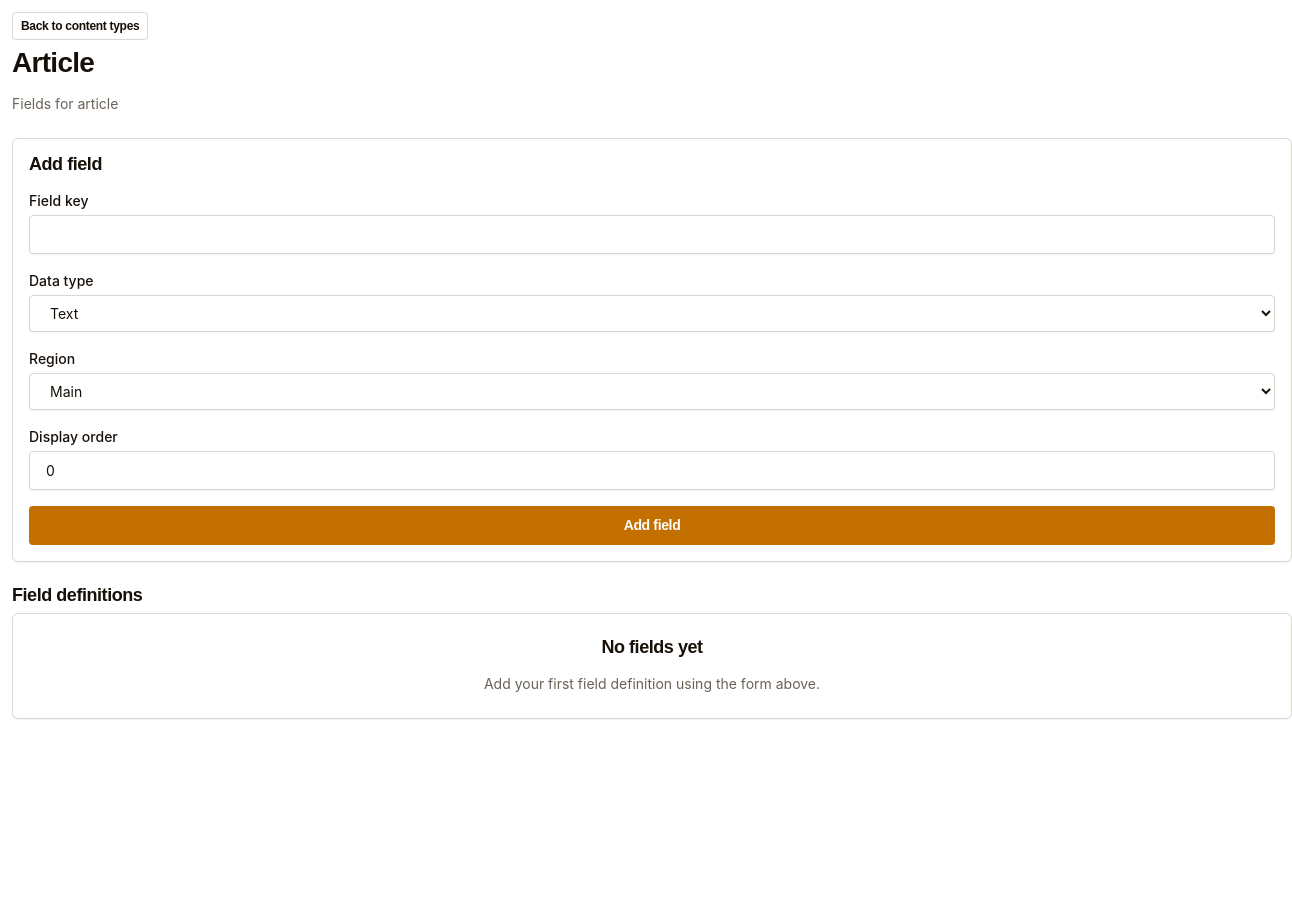
it: FieldDefsPage › configures a relation field with a target content type and cardinality
Expected: the heading "Article" is shown, [12,48,94,77]
Expected: the field labelled "Target content type" is not shown
Select "Relation" in the dropdown labelled "Data type". click: (652, 314)
box: [29,295,1275,332]
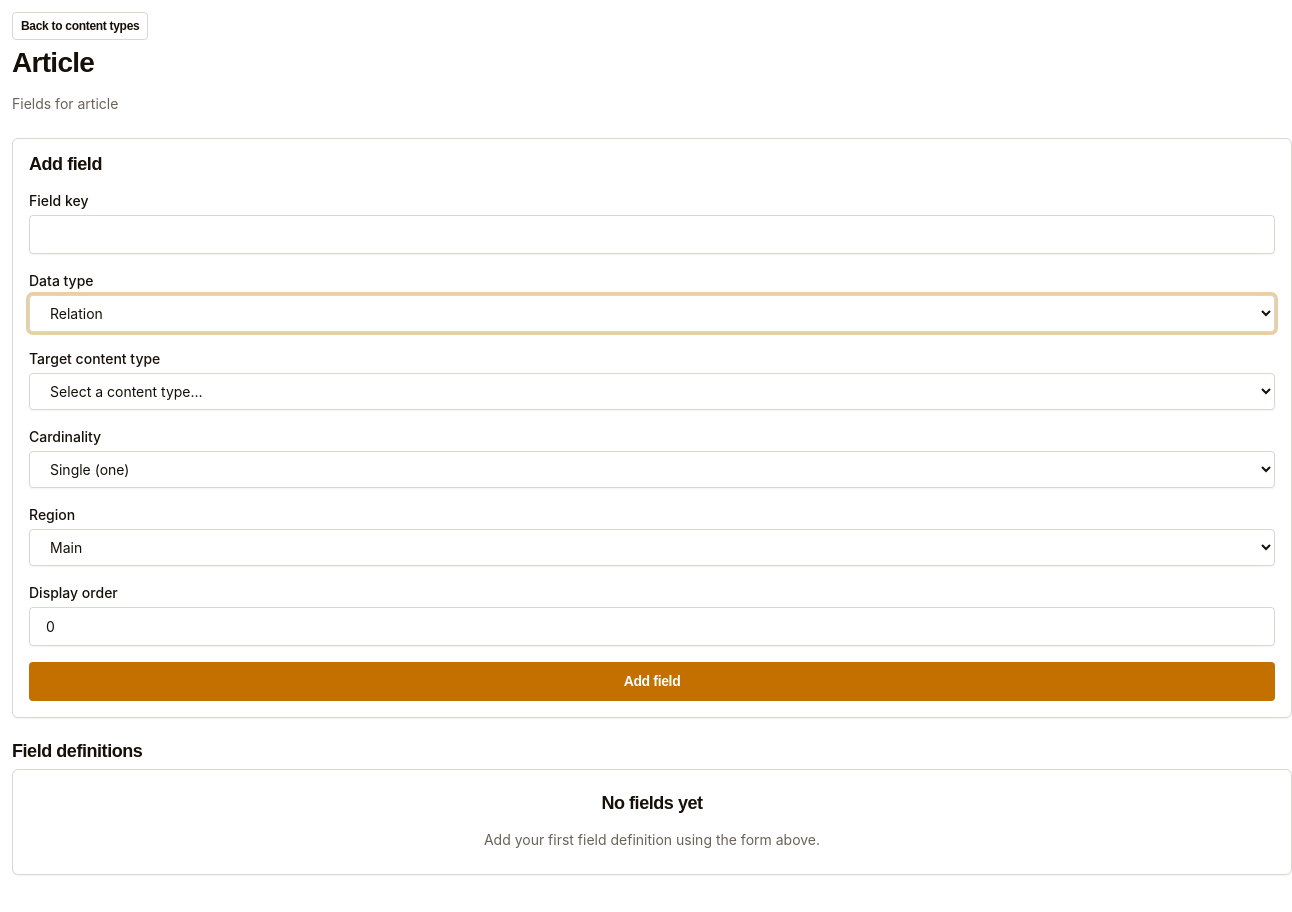
Select "Author" in the dropdown labelled "Target content type". click: (652, 392)
box: [29,373,1275,410]
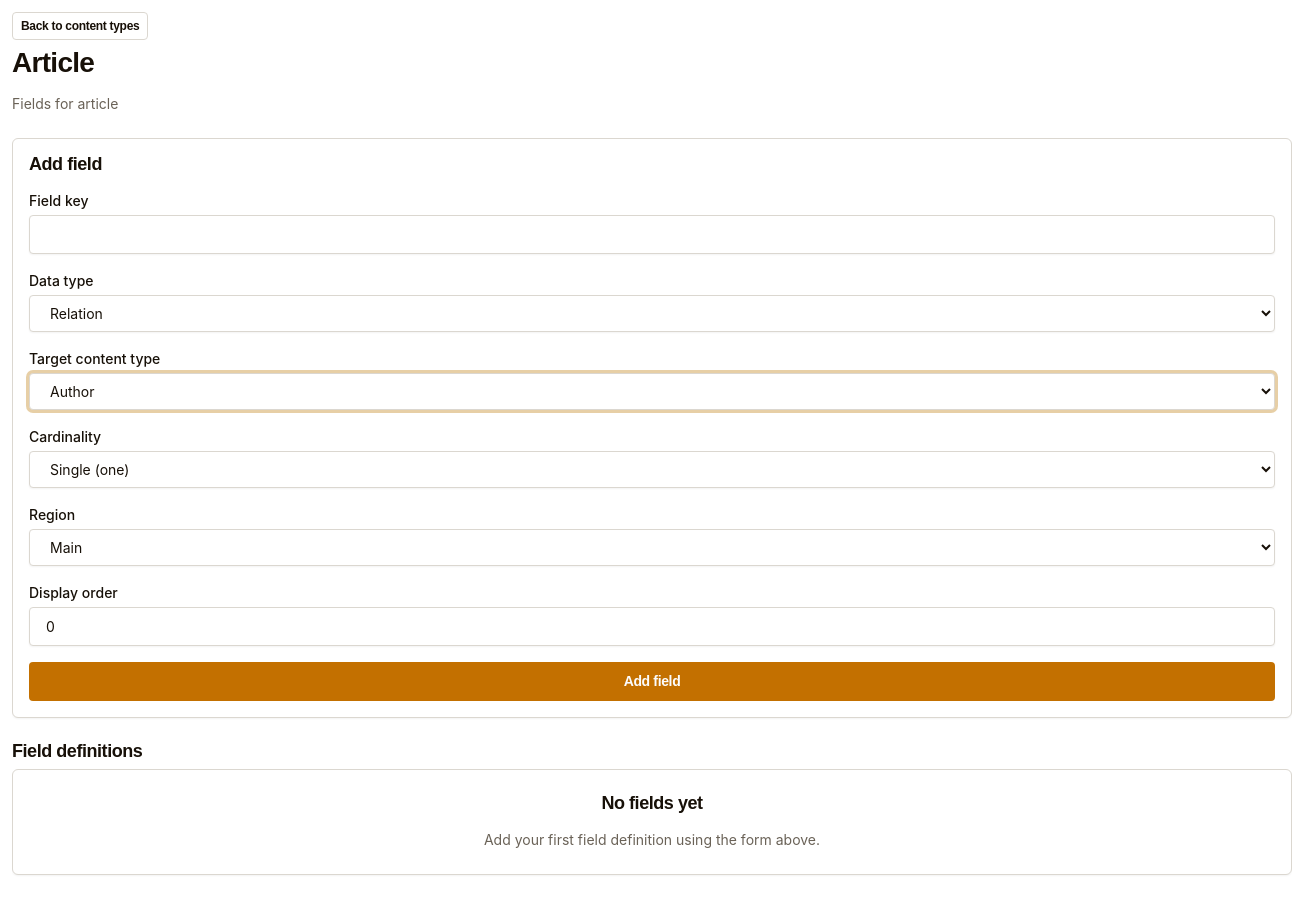
Select "Multiple (many)" in the dropdown labelled "Cardinality". click: (652, 470)
box: [29,451,1275,488]
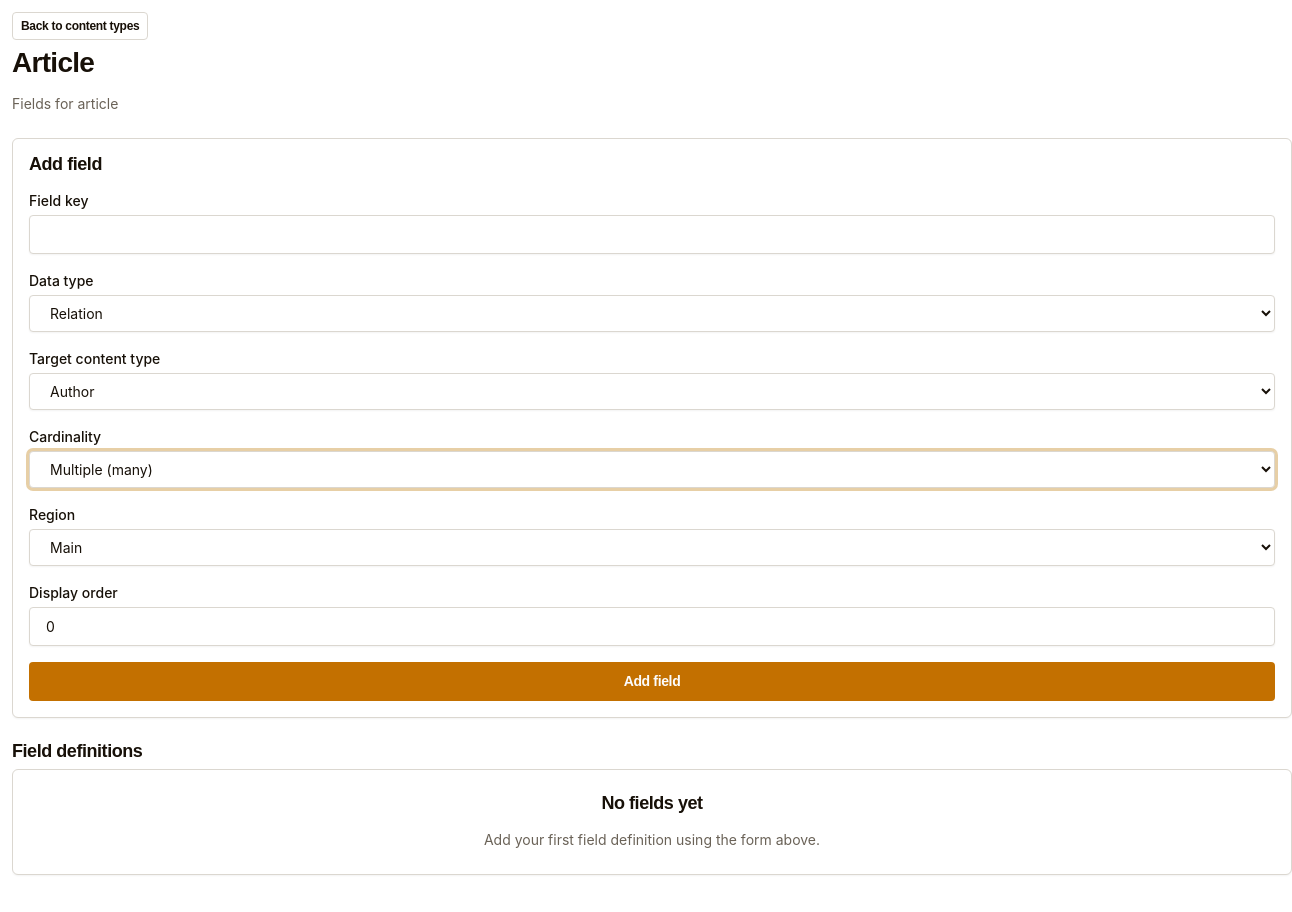
Type "author" into the field labelled "Field key". click: (652, 235)
box: [29,215,1275,254]
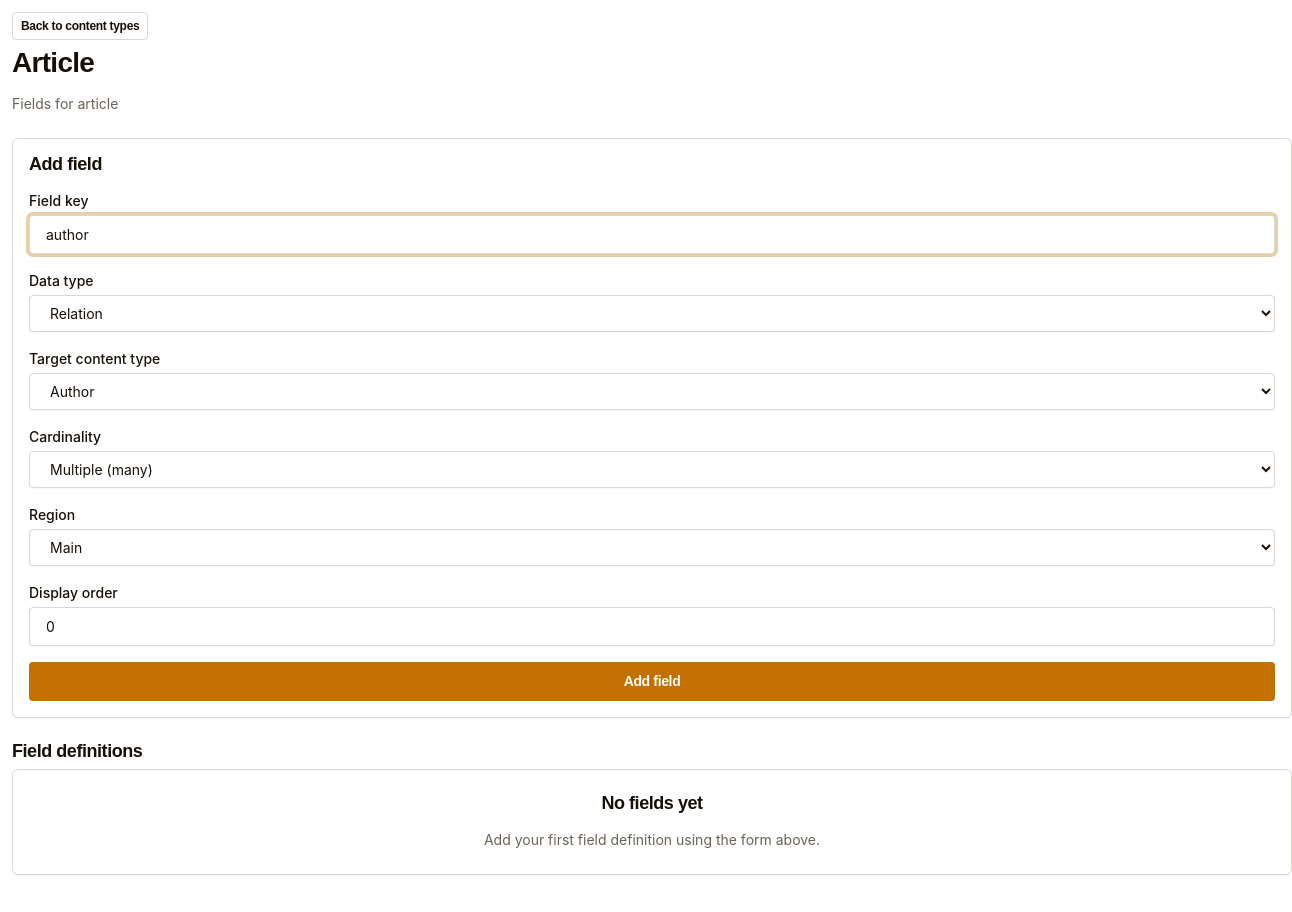
Click the button "Add field". click: (652, 682)
box: [29,662,1275,701]
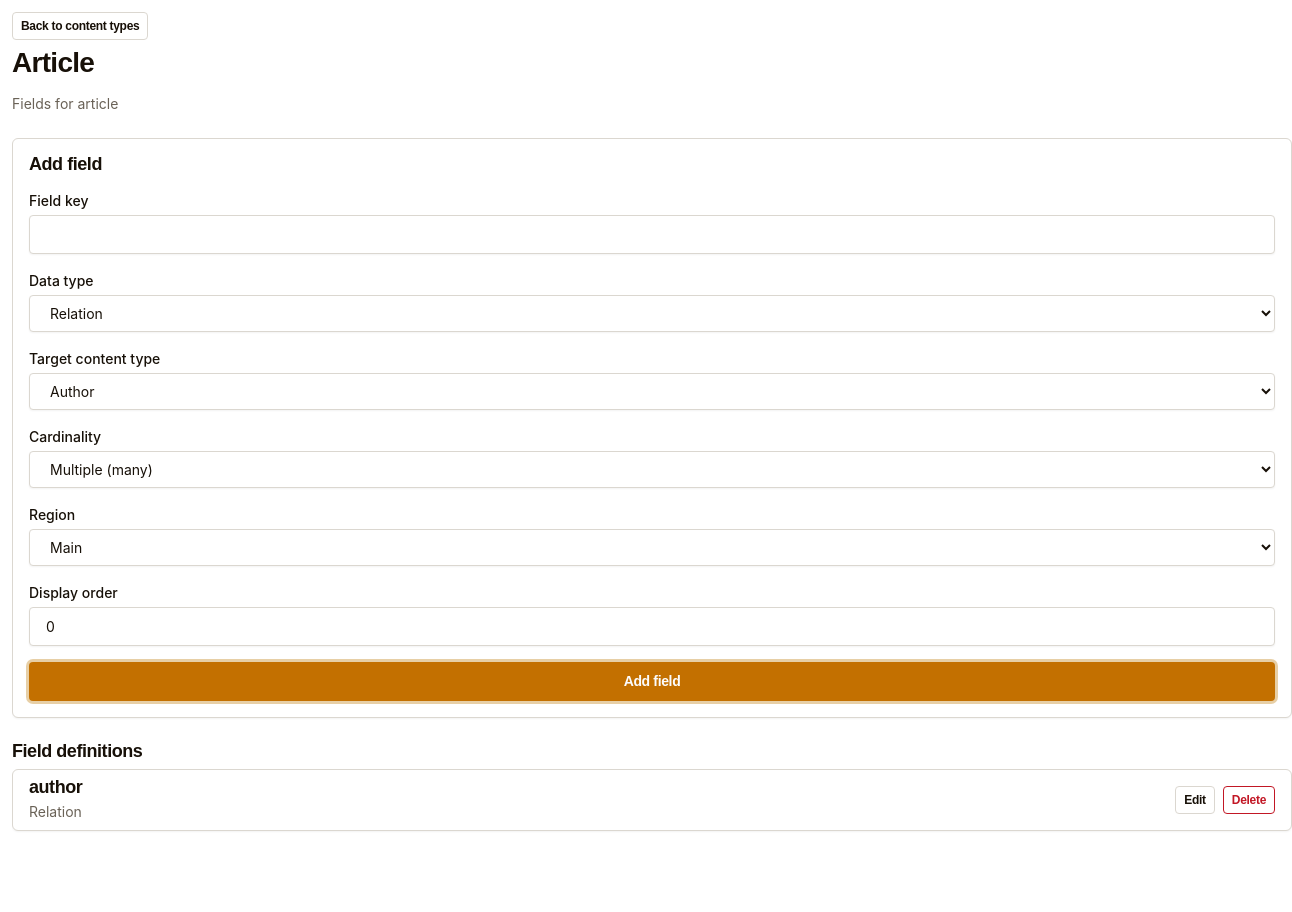
Result: the text "author" is shown at [29,778,82,797]
